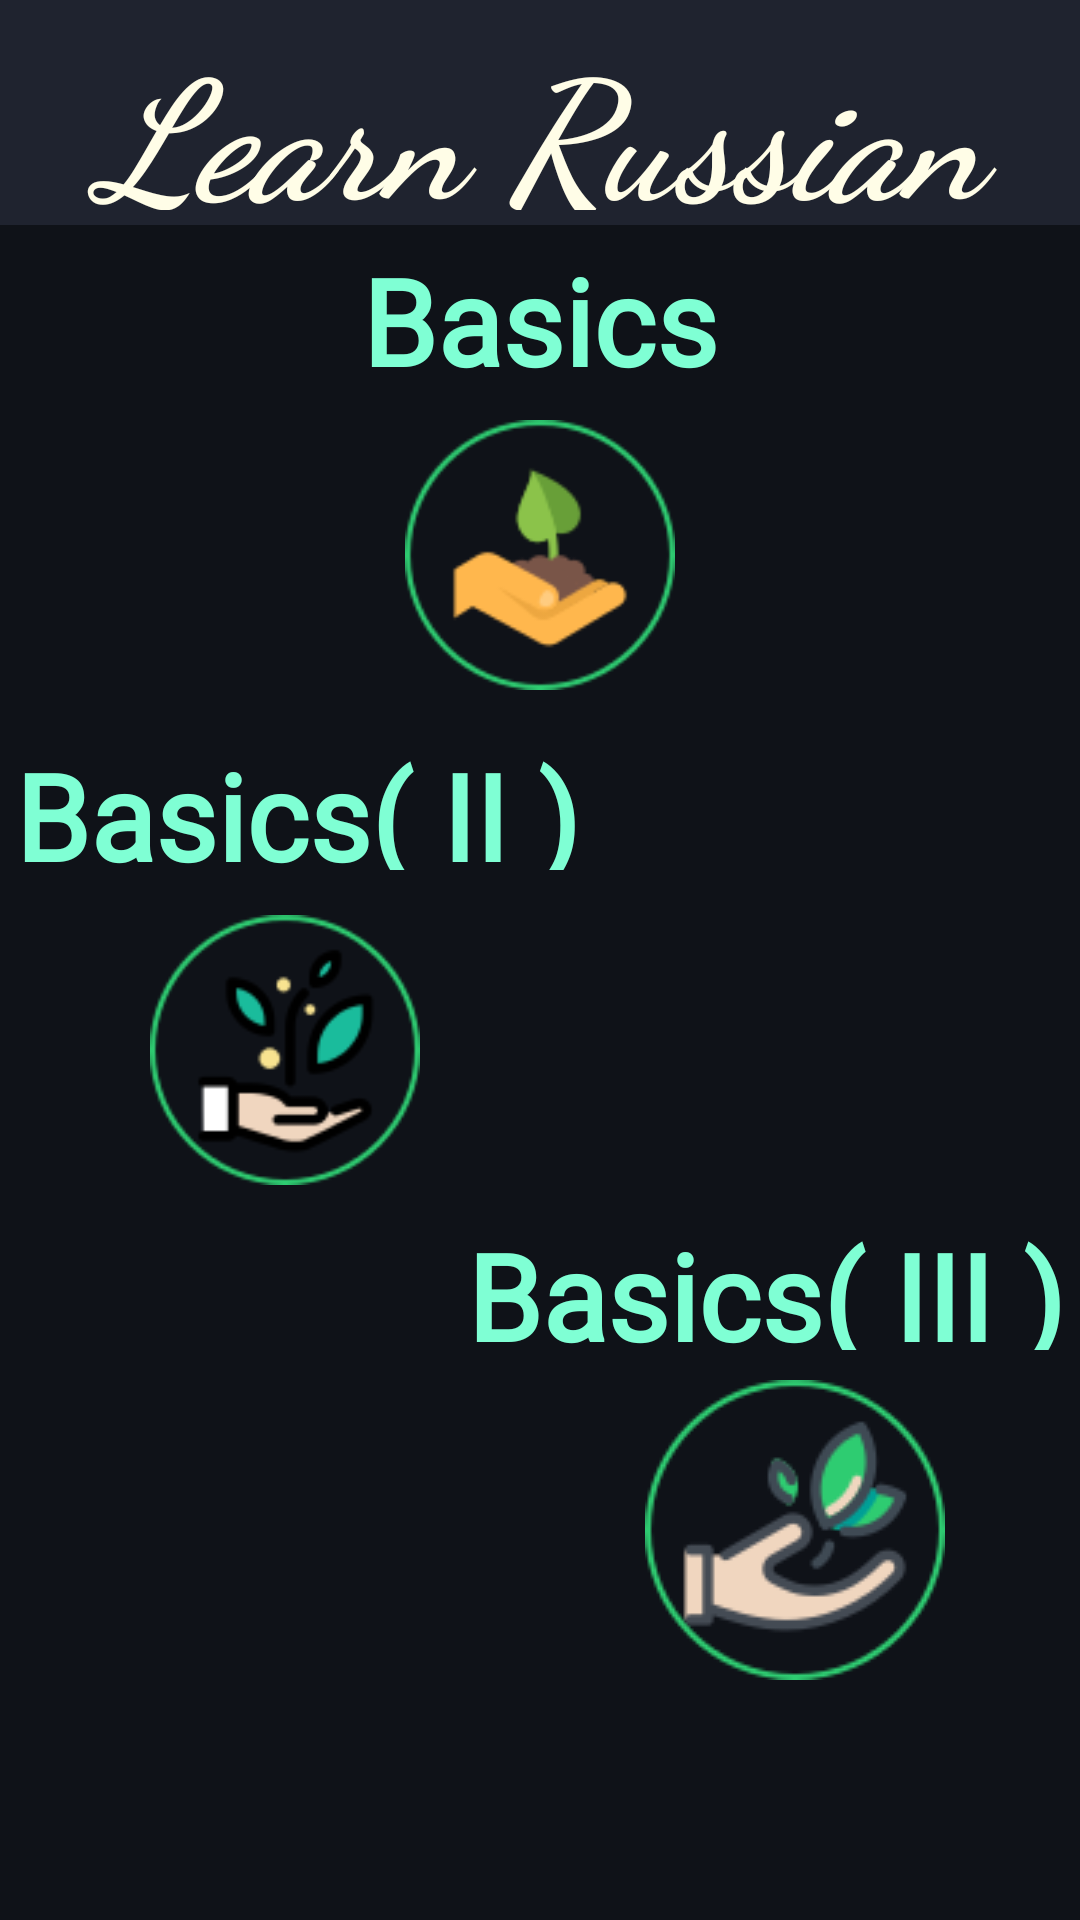

Screen size 1080x1920. Icon name, then its box in pixels as (x1, y1, x2, y2):
duel hand sprout: (150, 915, 420, 1185)
single hand sprout: (405, 420, 675, 690)
tri hand sprout: (645, 1380, 945, 1680)
